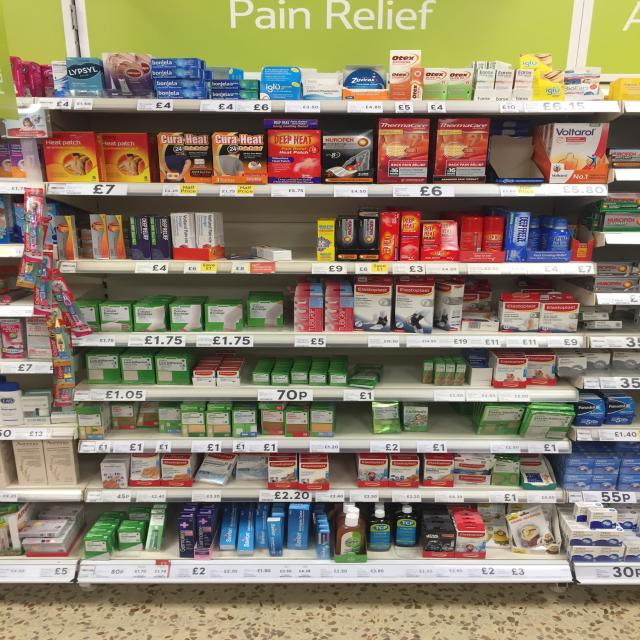unorganised: (220, 505, 315, 558), (483, 504, 560, 558), (477, 401, 575, 443), (435, 280, 500, 333), (100, 131, 156, 185), (367, 506, 422, 558), (148, 55, 209, 99), (109, 403, 181, 436), (193, 452, 268, 482), (370, 401, 432, 437), (9, 54, 52, 97), (57, 213, 93, 261), (337, 507, 368, 558), (574, 497, 621, 530), (563, 67, 605, 100), (245, 298, 287, 331), (246, 239, 296, 265), (526, 354, 561, 387), (459, 214, 486, 256), (588, 353, 639, 375), (583, 309, 625, 331), (348, 362, 384, 387), (530, 217, 547, 250)
